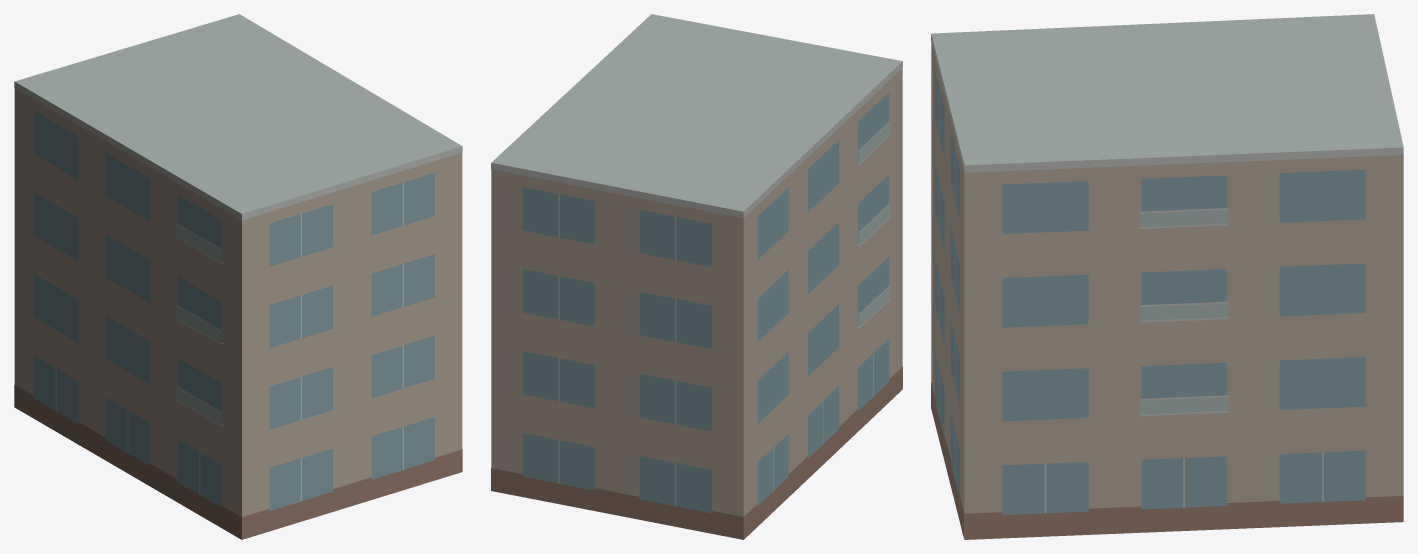
Rendered from survey-upis-32925943.glb.
The picture shows the model from 3 angles, left to right: view 1: azimuth 30°, elevation 25°; view 2: azimuth 150°, elevation 25°; view 3: azimuth 270°, elevation 25°; orthographic projection. The views are drawn at different scales.
Visible parts, largest first — view 1: survey-upis-32925943.tmp; view 2: survey-upis-32925943.tmp; view 3: survey-upis-32925943.tmp.
Part boxes in pixels (x1,y1,x2,y2): survey-upis-32925943.tmp: (14, 14, 462, 539); survey-upis-32925943.tmp: (491, 14, 902, 539); survey-upis-32925943.tmp: (931, 14, 1403, 539).
Bounding box in the file's own units: 10.58 × 12.2 × 13.96.
